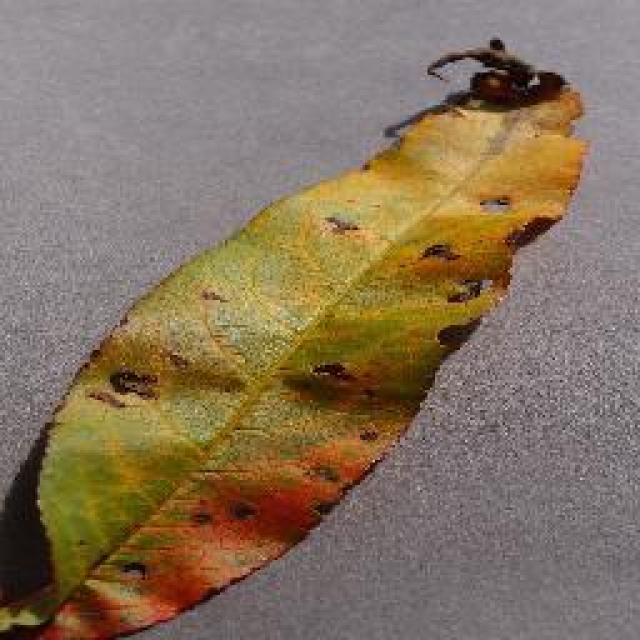Peach_Bacterial_Spot: (148, 188, 440, 545)
